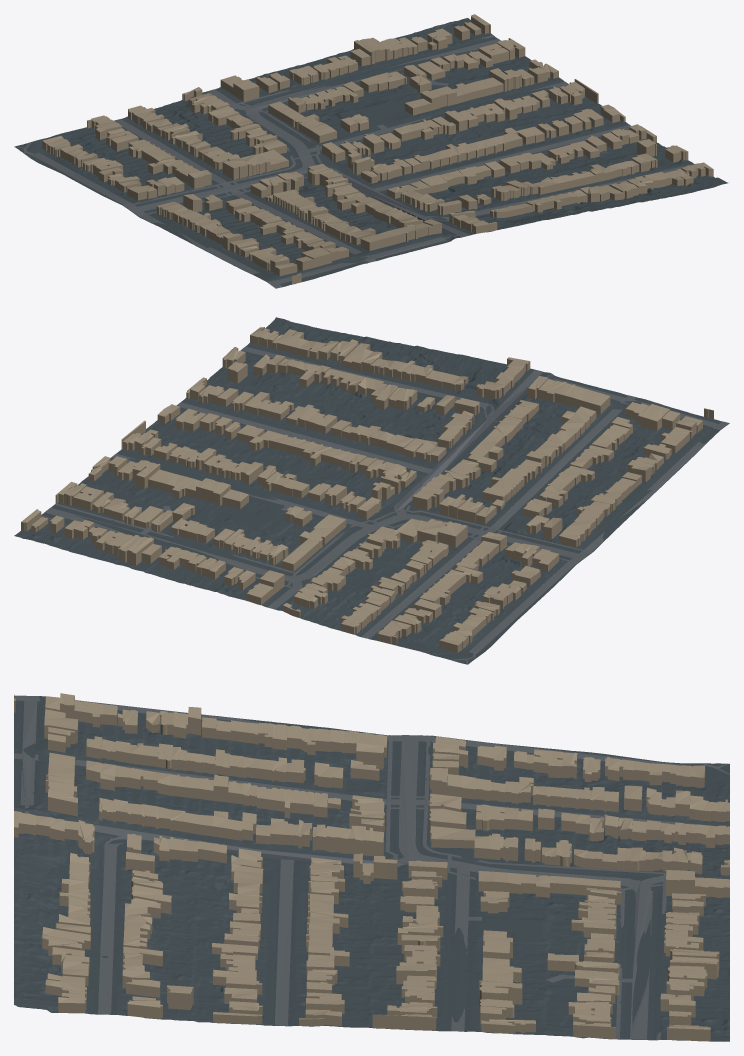
File: epsg26910-1425-10870.lod0.glb
3 views of the same model, one above another, from view 1: azimuth 30°, elevation 25°; view 2: azimuth 150°, elevation 25°; view 3: azimuth 270°, elevation 25° (orthographic). The views are drawn at different scales.
Parts seen in each view (by area): view 1: epsg26910-1425-10870-lod0; view 2: epsg26910-1425-10870-lod0; view 3: epsg26910-1425-10870-lod0.
Boxes of the visible parts, x1,y1,x2,y2 form: epsg26910-1425-10870-lod0: [14, 14, 727, 288]; epsg26910-1425-10870-lod0: [14, 317, 729, 664]; epsg26910-1425-10870-lod0: [14, 693, 729, 1041].
Size of the model in its own units: 384 by 51.15 by 384.
